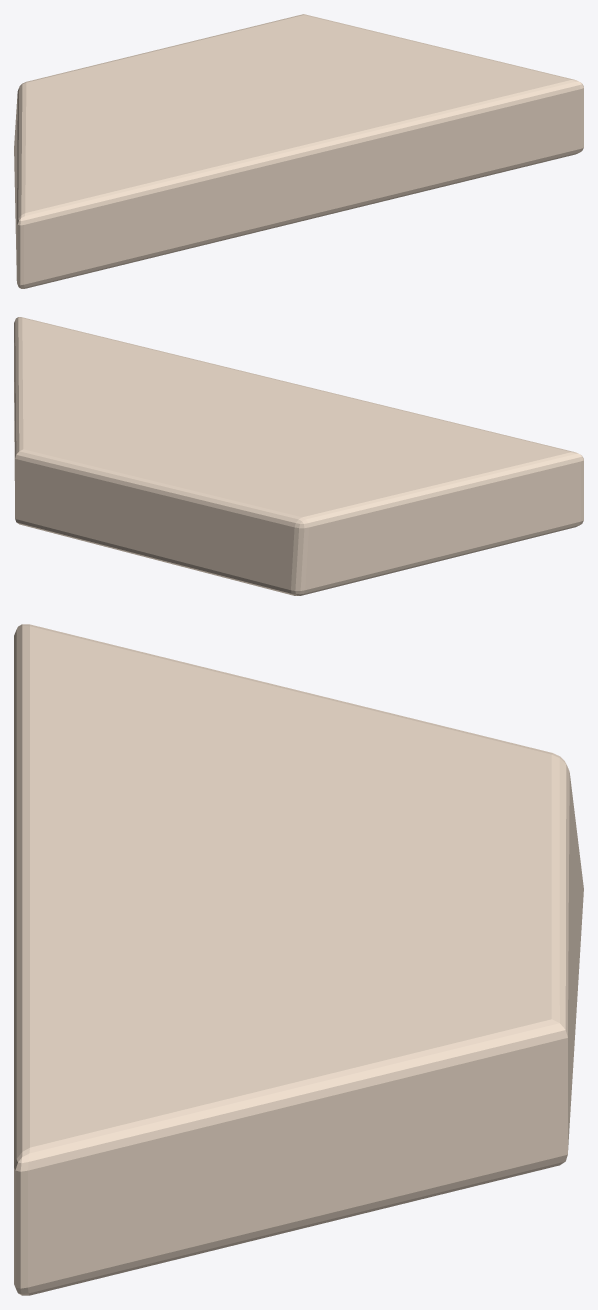
File: PieceTW.glb
3 renders of one model, top to bottom at view 1: azimuth 30°, elevation 25°; view 2: azimuth 150°, elevation 25°; view 3: azimuth 270°, elevation 25°, orthographic. The views are drawn at different scales.
Parts seen in each view (by area): view 1: CubeTW; view 2: CubeTW; view 3: CubeTW.
Part boxes in pixels (box(x1,y1,x2,y2)): CubeTW: box(14, 14, 583, 288); CubeTW: box(14, 317, 583, 595); CubeTW: box(14, 624, 583, 1295).
Size of the model in its own units: 1.98 by 0.25 by 0.8838.
